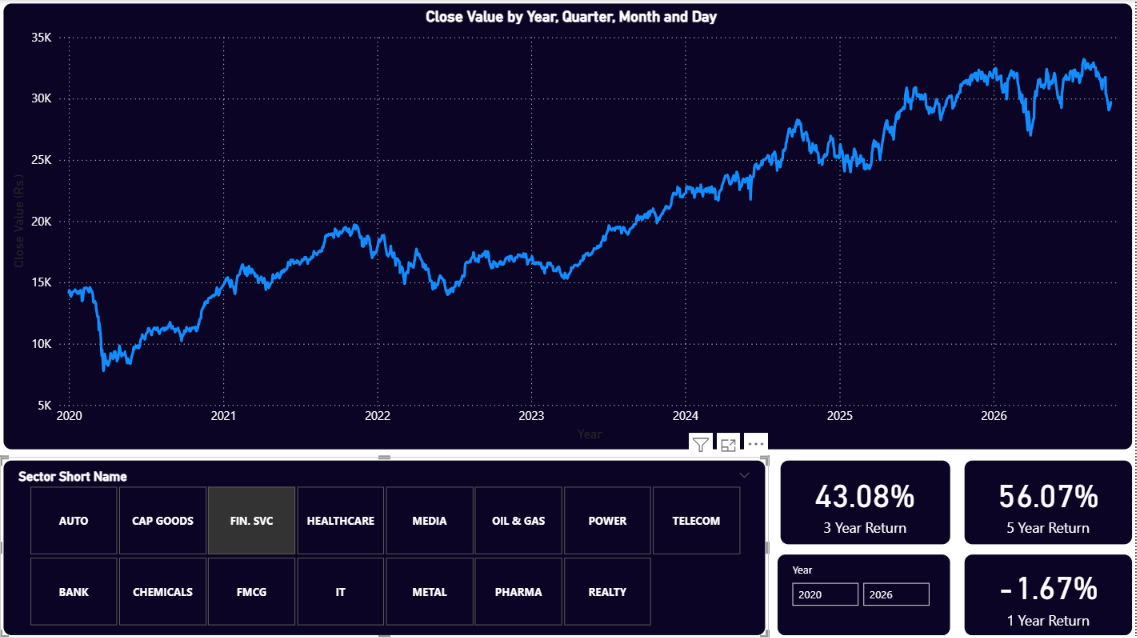

This screenshot's page, from the dashboard's own definition file:
{"tool":"powerbi","page":{"name":"Page 2","canvas":[1280,720],"ordinal":1},"visuals":[{"type":"lineChart","title":" Close Value by Year, Quarter, Month and Day","fields":{"Category":["Date Table.Date.Variation.Date Hierarchy.Year","Date Table.Date.Variation.Date Hierarchy.Quarter","Date Table.Date.Variation.Date Hierarchy.Month","Date Table.Date.Variation.Date Hierarchy.Day"],"Y":["Max(Combine Data.Close)"]},"box":[0,0,1280.2,510.5],"z":0},{"type":"slicer","fields":{"Values":["Combine Data.Sector Short Name"]},"box":[0,515.1,866.3,204.7],"z":1000},{"type":"slicer","fields":{"Values":["Date Table.Year"]},"box":[872.1,620.9,202.3,98.8],"z":1001},{"type":"card","fields":{"Values":["Combine Data.3 Year Return"]},"box":[875.6,514.5,198.8,102.3],"z":1002},{"type":"card","fields":{"Values":["Combine Data.5 Year Return"]},"box":[1083.7,514.5,196.5,102.3],"z":1003},{"type":"card","fields":{"Values":["Combine Data.1 Year Return"]},"box":[1083.7,620.9,196.5,98.8],"z":1004}]}

Visuals, with their boxes in screenshot pixels (x1, y1, x2, y2), scaled from the page's 1280x720 canvas onto the 1137x638 screenshot:
" Close Value by Year, Quarter, Month and Day" lineChart: {"left": 0, "top": 0, "right": 1136, "bottom": 452}
slicer - Combine Data.Sector Short Name: {"left": 0, "top": 456, "right": 770, "bottom": 637}
slicer - Date Table.Year: {"left": 775, "top": 550, "right": 954, "bottom": 637}
card - Combine Data.3 Year Return: {"left": 778, "top": 456, "right": 954, "bottom": 547}
card - Combine Data.5 Year Return: {"left": 963, "top": 456, "right": 1136, "bottom": 547}
card - Combine Data.1 Year Return: {"left": 963, "top": 550, "right": 1136, "bottom": 637}
